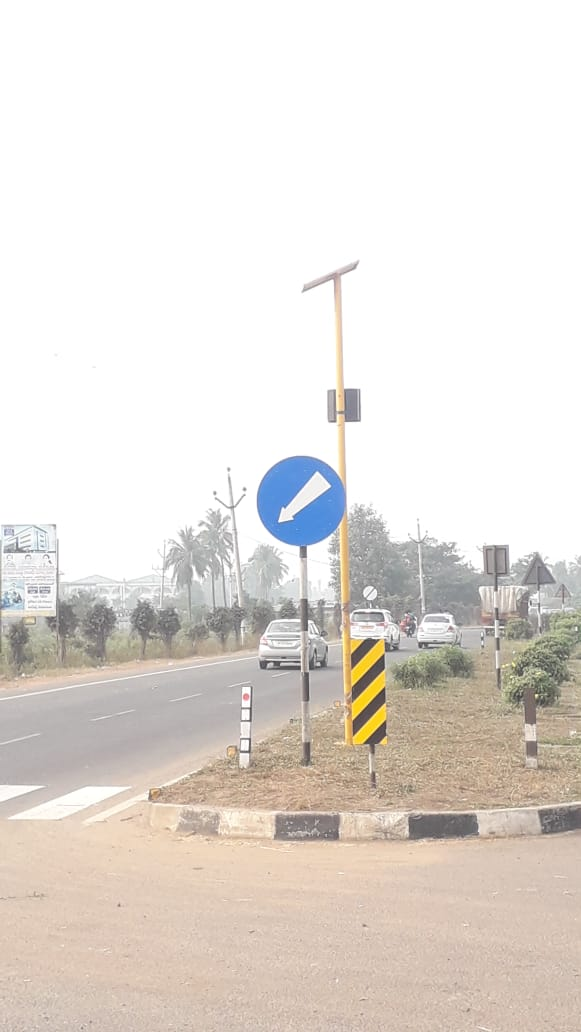go left: (234, 447, 346, 564)
